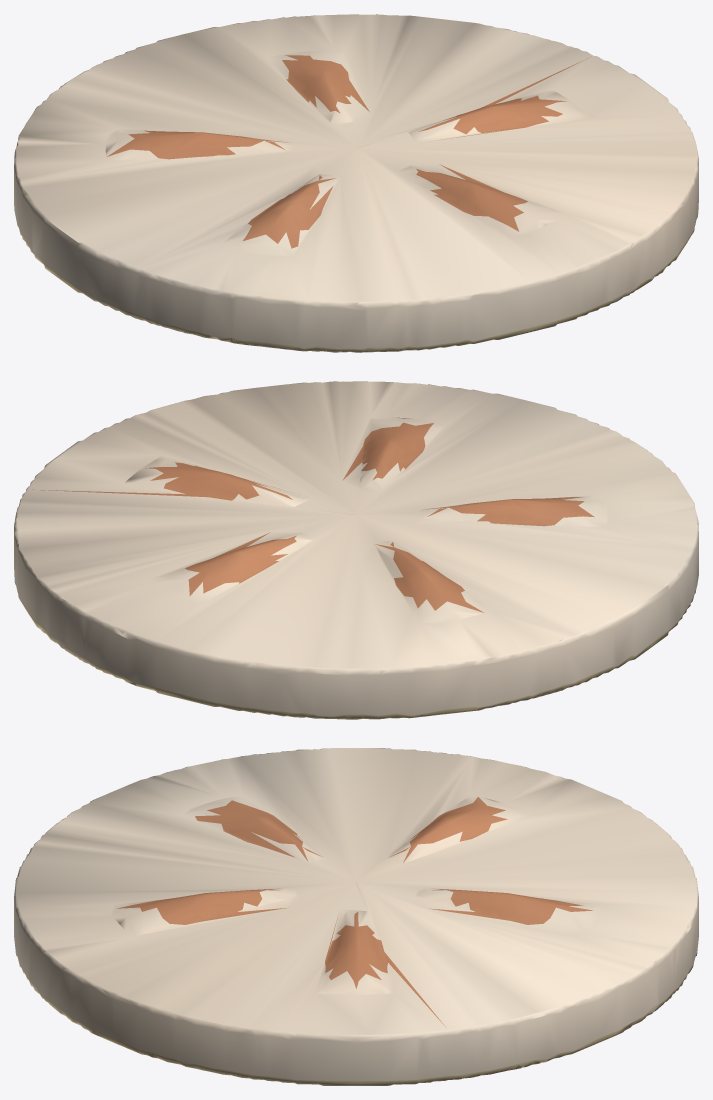
Rendered from shore_sand_dollar.glb.
The picture shows the model from 3 angles, top to bottom: view 1: azimuth 30°, elevation 25°; view 2: azimuth 150°, elevation 25°; view 3: azimuth 270°, elevation 25°; orthographic projection.
Visible parts, largest first — view 1: shore_sand_dollar; view 2: shore_sand_dollar; view 3: shore_sand_dollar.
Boxes of the visible parts, x1,y1,x2,y2 form: shore_sand_dollar: [14, 14, 698, 352]; shore_sand_dollar: [14, 381, 698, 719]; shore_sand_dollar: [14, 748, 698, 1085].
Bounding box in the file's own units: 7.4 × 0.8193 × 7.4.
